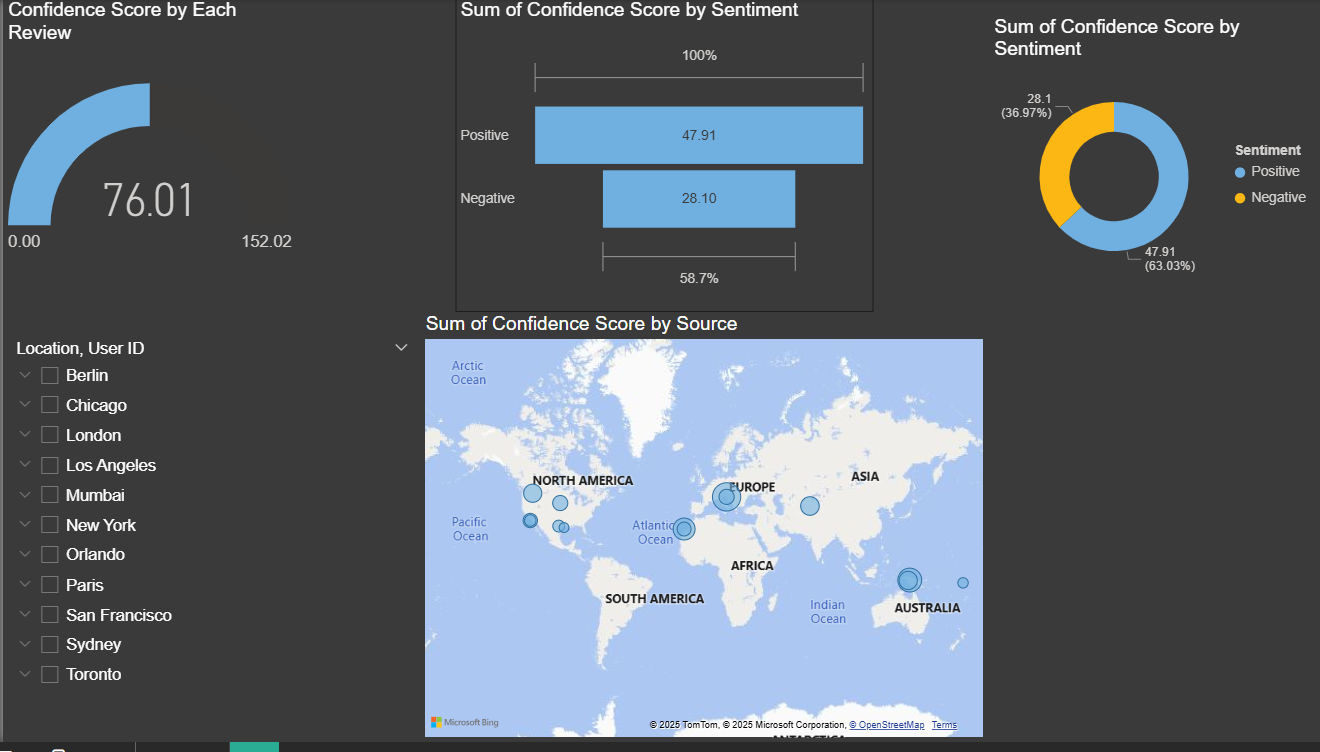

Layout of this report page (visuals, bound fields, positions):
{"tool":"powerbi","page":{"name":"Page 1","canvas":[1280,720],"ordinal":0},"visuals":[{"type":"funnel","fields":{"Y":["Sum(sentiment-analysis.Confidence Score)"],"Category":["sentiment-analysis. Sentiment","sentiment-analysis. User ID"]},"box":[438,0,404.9,304.3],"z":0},{"type":"map","fields":{"Category":["sentiment-analysis. Source","sentiment-analysis.Date/Time.Variation.Date Hierarchy.Year","sentiment-analysis.Date/Time.Variation.Date Hierarchy.Day"],"Size":["Sum(sentiment-analysis.Confidence Score)"]},"box":[404.9,304.3,549.7,416],"z":1000},{"type":"donutChart","fields":{"Category":["sentiment-analysis. Sentiment"],"Y":["Sum(sentiment-analysis.Confidence Score)"]},"box":[954.6,16,325.2,271.2],"z":2000},{"type":"slicer","fields":{"Values":["sentiment-analysis.Location","sentiment-analysis. User ID"]},"box":[0,323.9,404.9,396.3],"z":3000},{"type":"gauge","title":"Confidence Score by Each Review","fields":{"Y":["Sum(sentiment-analysis.Confidence Score)"]},"box":[0,0,284.7,287.1],"z":4000}]}

Visuals, with their boxes in screenshot pixels (x1, y1, x2, y2), scaled from the page's 1280x720 canvas onto the 1320x752 screenshot:
funnel - Sum(sentiment-analysis.Confidence Score) x sentiment-analysis. Sentiment: detection(452, 0, 869, 318)
map - sentiment-analysis. Source x sentiment-analysis.Date/Time.Variation.Date Hierarchy.Year: detection(418, 318, 984, 751)
donutChart - sentiment-analysis. Sentiment x Sum(sentiment-analysis.Confidence Score): detection(984, 17, 1319, 300)
slicer - sentiment-analysis.Location x sentiment-analysis. User ID: detection(0, 338, 418, 751)
"Confidence Score by Each Review" gauge: detection(0, 0, 294, 300)
